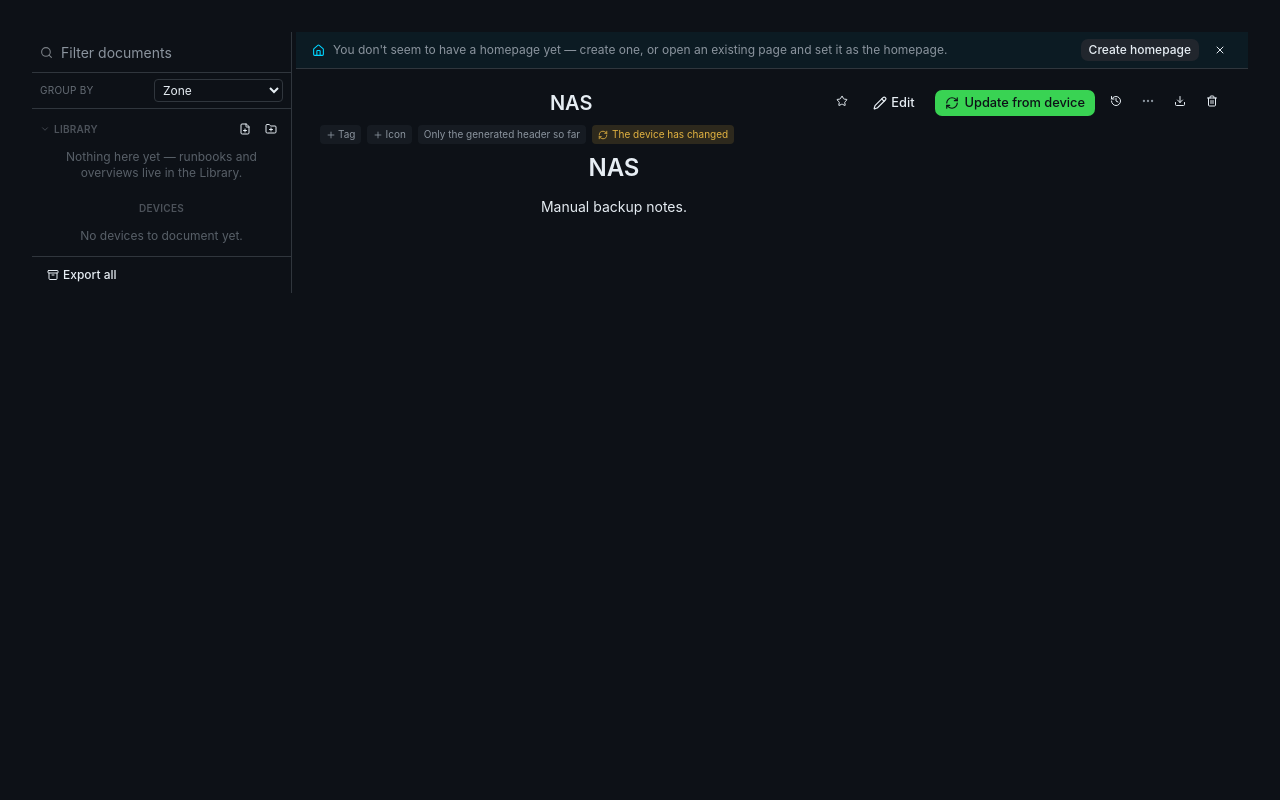
DocumentationView — update from device › shows a conflict-free update for review and applies it only once Update is clicked
Click the button "Update from device": (1015, 103) [934, 89, 1096, 117]
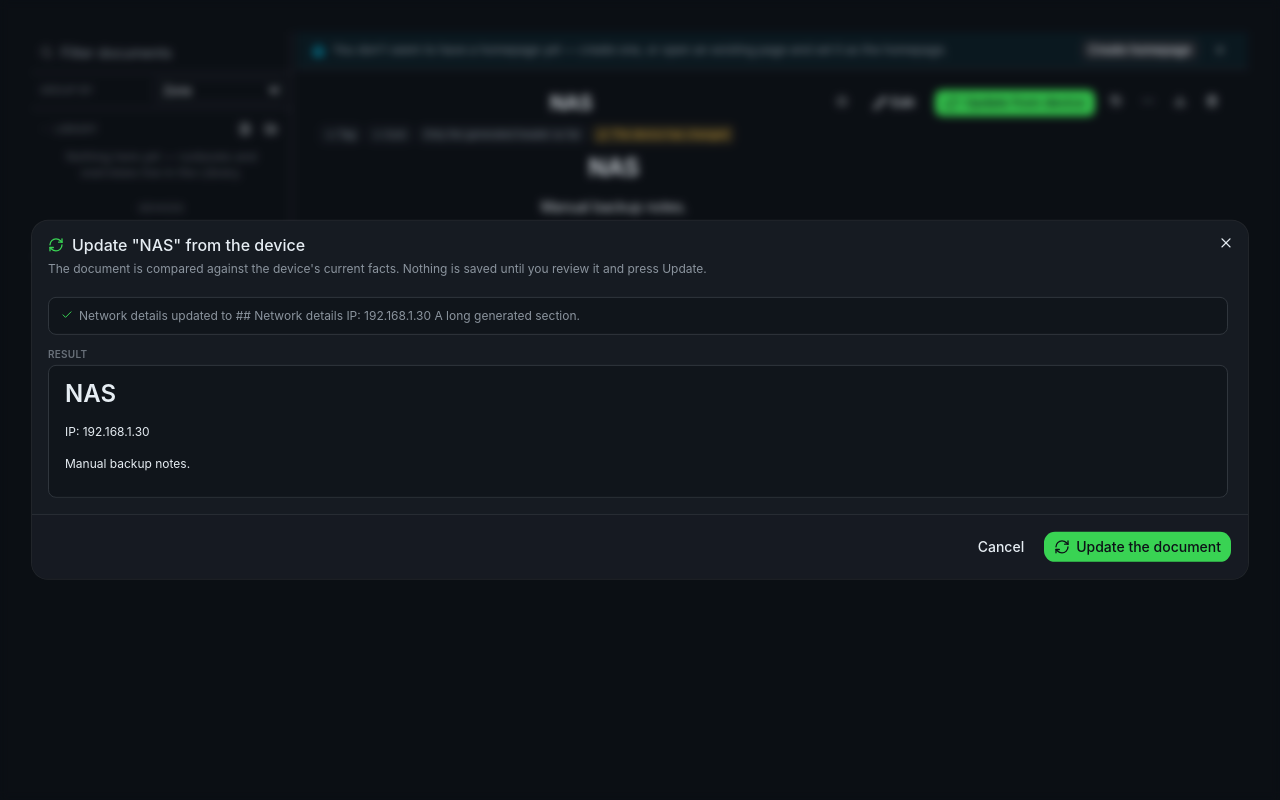
Check: the dialog is shown, box [32, 221, 1248, 579]
Click the button "Update the document": (1138, 547) [1043, 531, 1232, 563]
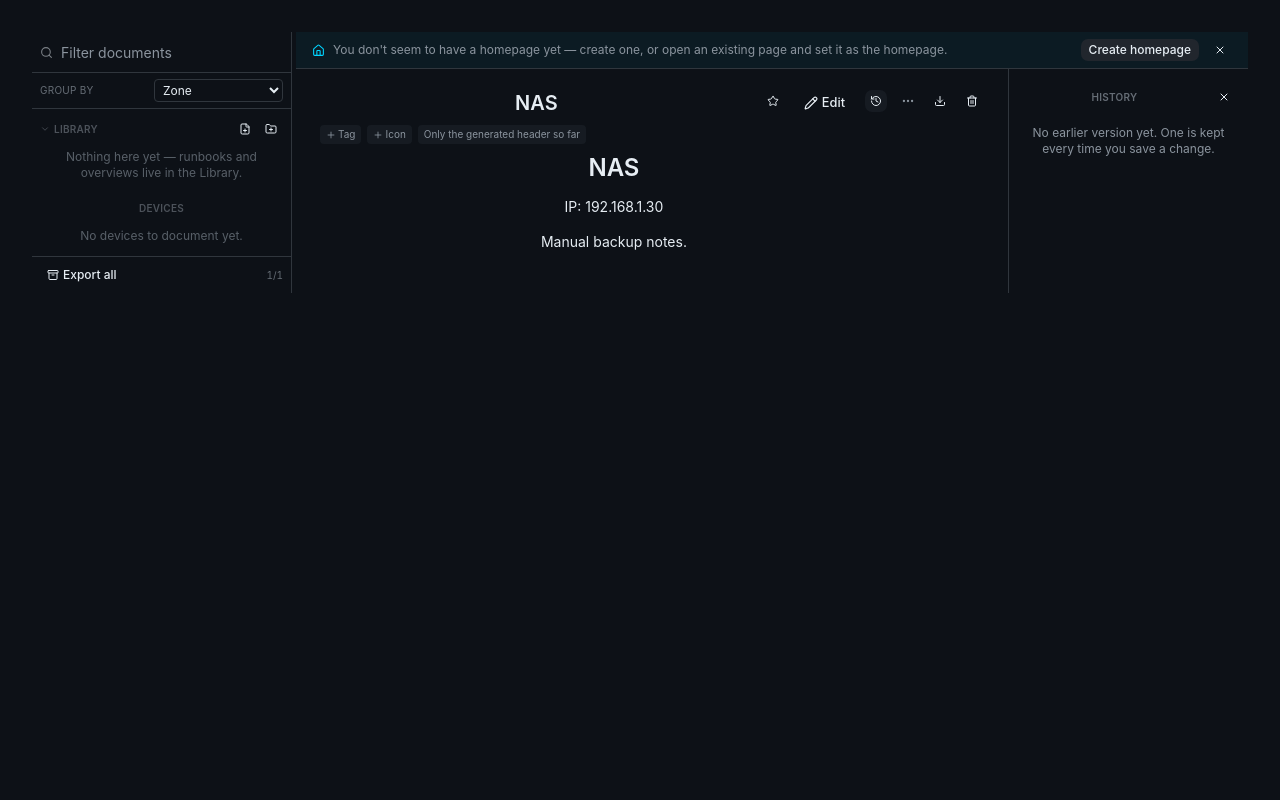
Check: the text "Manual backup notes." is shown, box [541, 233, 687, 250]
Check: the dialog is gone
